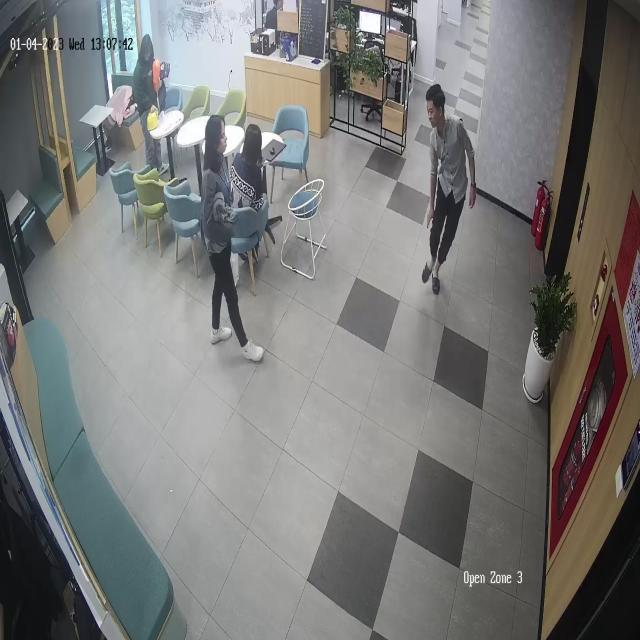person: (201, 113, 265, 364), (422, 83, 477, 295), (229, 123, 286, 279), (132, 33, 171, 165)
